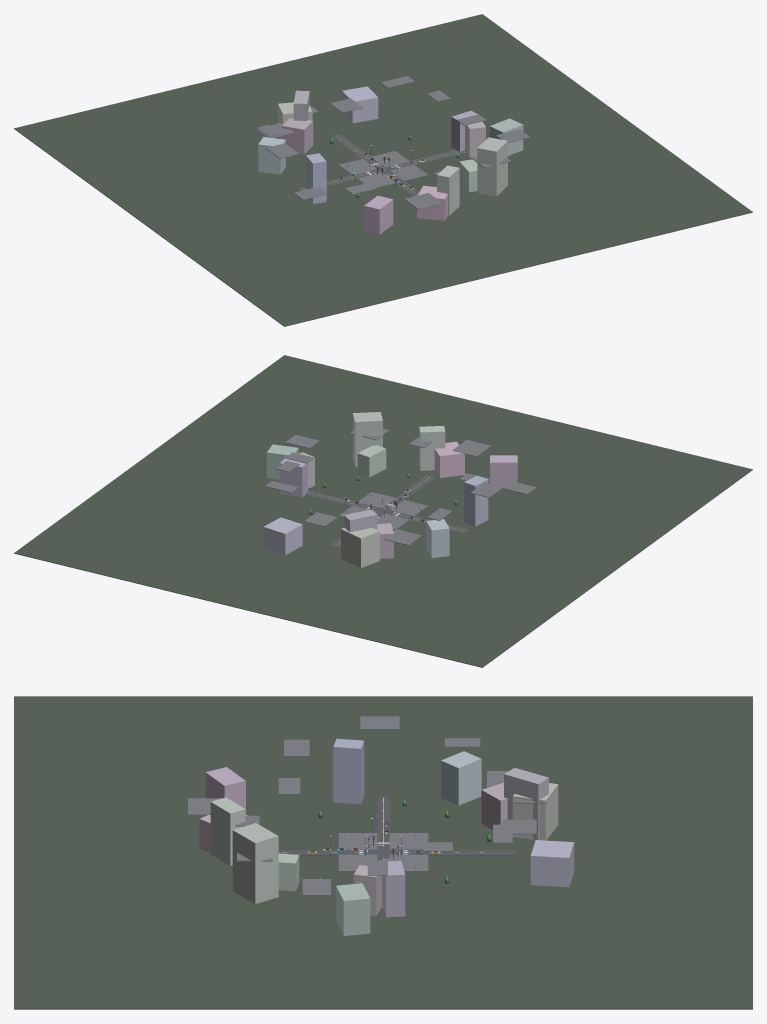
The model's file is intersection.glb.
3 renders of one model, top to bottom at view 1: azimuth 30°, elevation 25°; view 2: azimuth 150°, elevation 25°; view 3: azimuth 270°, elevation 25°, orthographic. The views are drawn at different scales.
Parts seen in each view (by area): view 1: Ground, Bldg7, Bldg8, Bldg10, Bldg1, Bldg3, Bldg6, Bldg4, Bldg5, RoadEW, Bldg13, RoadNS (+3 smaller); view 2: Ground, Bldg12, Bldg10, Bldg7, Bldg1, Bldg5, Bldg6, Bldg4, Bldg8, Bldg9, Bldg0, Bldg13 (+2 smaller); view 3: Ground, Bldg7, Bldg1, Bldg10, Bldg4, Bldg6, Bldg13, Bldg2, Bldg12, Bldg8, Bldg0, RoadNS (+9 smaller).
Boxes of the visible parts, box(x1,y1,x2,y2) form: Ground: box(14, 14, 752, 326); Bldg7: box(477, 137, 507, 196); Bldg8: box(364, 195, 393, 234); Bldg10: box(342, 86, 378, 123); Bldg1: box(305, 153, 326, 203); Bldg3: box(281, 118, 313, 154); Bldg6: box(437, 165, 459, 215); Bldg4: box(258, 137, 285, 174); Bldg5: box(417, 185, 447, 220); RoadEW: box(298, 150, 465, 190); Bldg13: box(489, 118, 523, 155); RoadNS: box(331, 134, 418, 196); Ground: box(14, 355, 752, 667); Bldg12: box(341, 527, 379, 567); Bldg10: box(263, 517, 302, 555); Bldg7: box(353, 412, 382, 466); Bldg1: box(464, 475, 488, 526); Bldg5: box(434, 441, 464, 477); Bldg6: box(419, 426, 445, 470); Bldg4: box(426, 519, 449, 557); Bldg8: box(490, 455, 517, 486); Bldg9: box(357, 445, 386, 477); Bldg0: box(280, 458, 307, 497); Bldg13: box(266, 444, 298, 479); Ground: box(14, 696, 752, 1009); Bldg7: box(232, 823, 278, 904); Bldg1: box(333, 738, 364, 804); Bldg10: box(530, 840, 574, 887); Bldg4: box(441, 751, 481, 805); Bldg6: box(210, 797, 245, 865); Bldg13: box(336, 883, 370, 935); Bldg2: box(504, 767, 548, 840); Bldg12: box(512, 783, 558, 840); Bldg8: box(205, 767, 245, 814); Bldg0: box(382, 860, 405, 917); RoadNS: box(278, 850, 515, 855).
Size of the model in its own units: 420 by 39.29 by 420.
